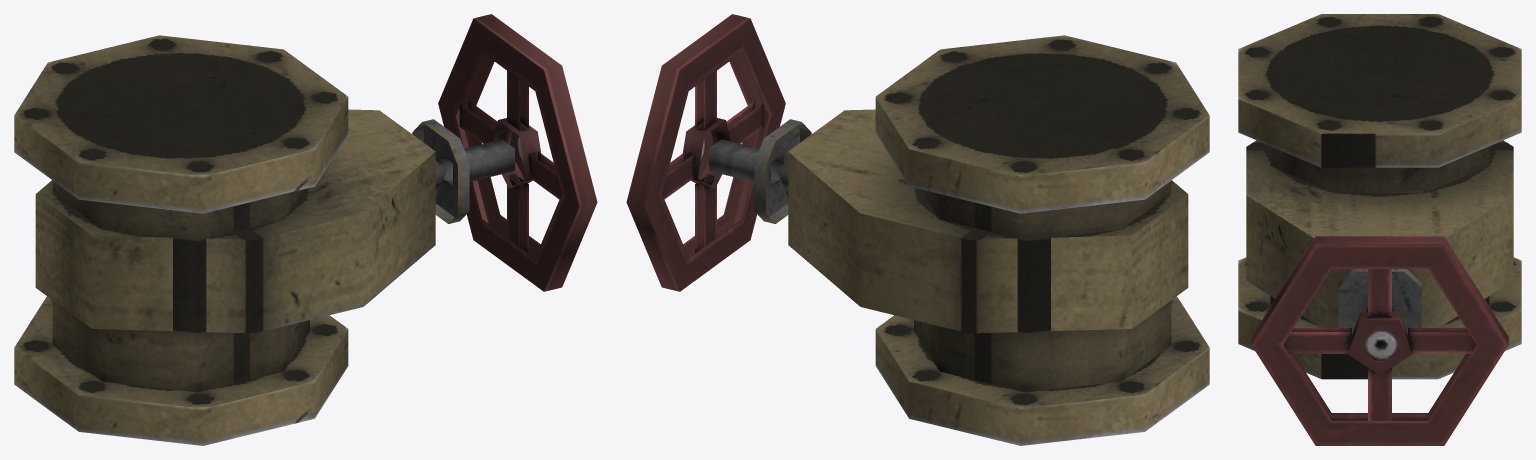
Rendered from ny_harbor_sub_pipe_valve_01_lod1.glb.
3 views of the same model, side by side, from view 1: azimuth 30°, elevation 25°; view 2: azimuth 150°, elevation 25°; view 3: azimuth 270°, elevation 25° (orthographic). The views are drawn at different scales.
Parts seen in each view (by area): view 1: surf0; view 2: surf0; view 3: surf0.
Part boxes in pixels (x1,y1,x2,y2): surf0: (14, 14, 597, 445); surf0: (626, 14, 1209, 445); surf0: (1238, 14, 1521, 445).
Bounding box in the file's own units: 15.68 × 8.41 × 8.79.
